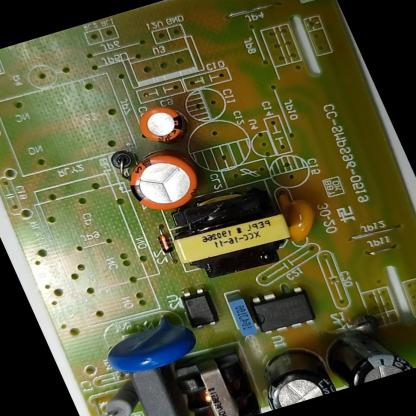Cap1: (117, 142, 210, 219)
Cap2: (131, 99, 191, 147)
Cap3: (246, 337, 338, 411)
Cap4: (313, 318, 413, 391), (94, 380, 144, 416)
MOSFET: (247, 284, 318, 338)
Mov: (92, 307, 203, 382)
Transformer: (160, 180, 303, 289), (162, 340, 268, 416)
